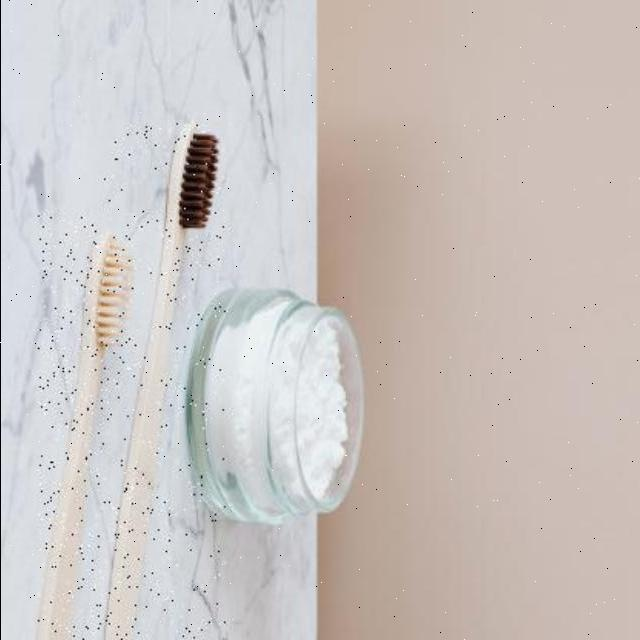toothbrush: (98, 120, 225, 640), (37, 212, 135, 640)
